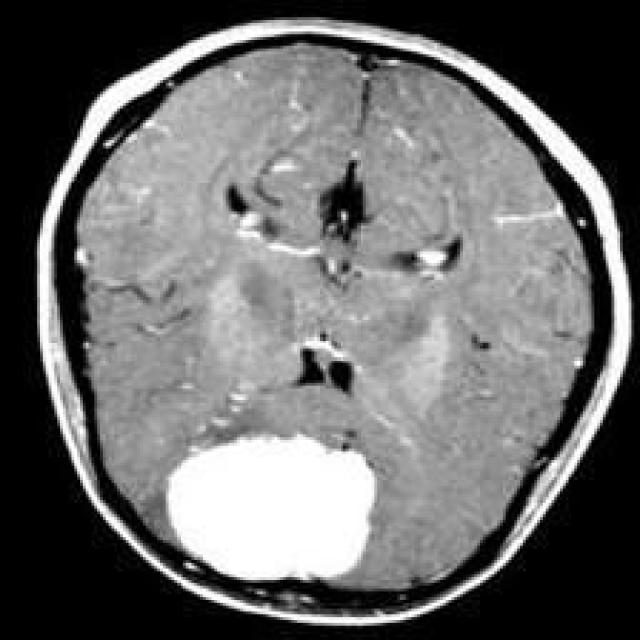Tumor: (163, 434, 380, 586)
